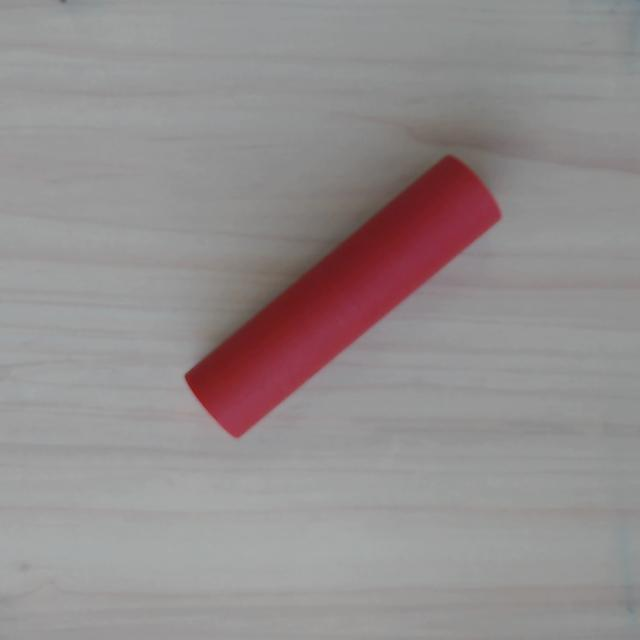Silinder-Merah-10025: (179, 149, 507, 442)
